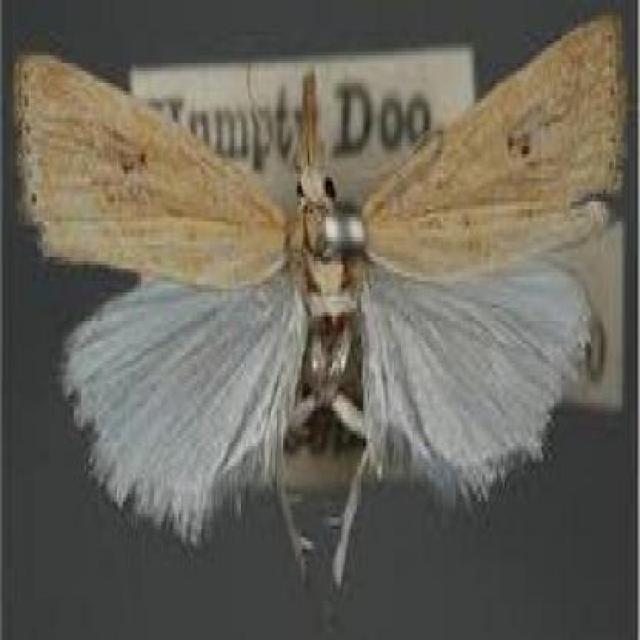stem-borer: (12, 13, 629, 609)
